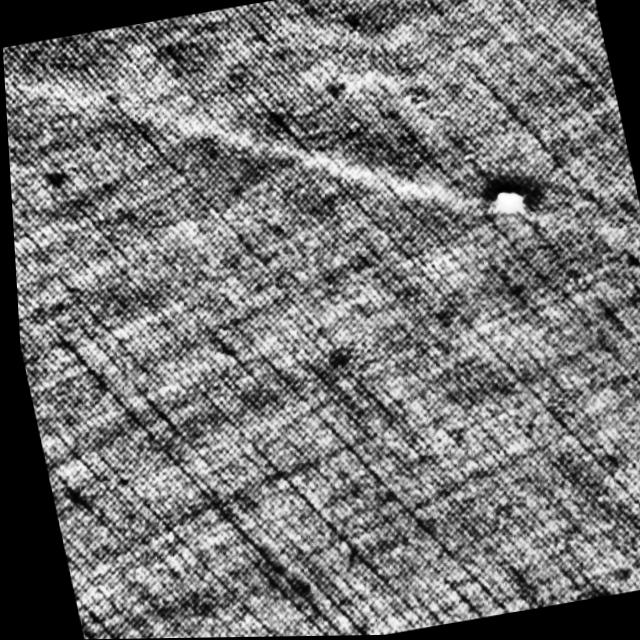Hole: (485, 186, 528, 218)
